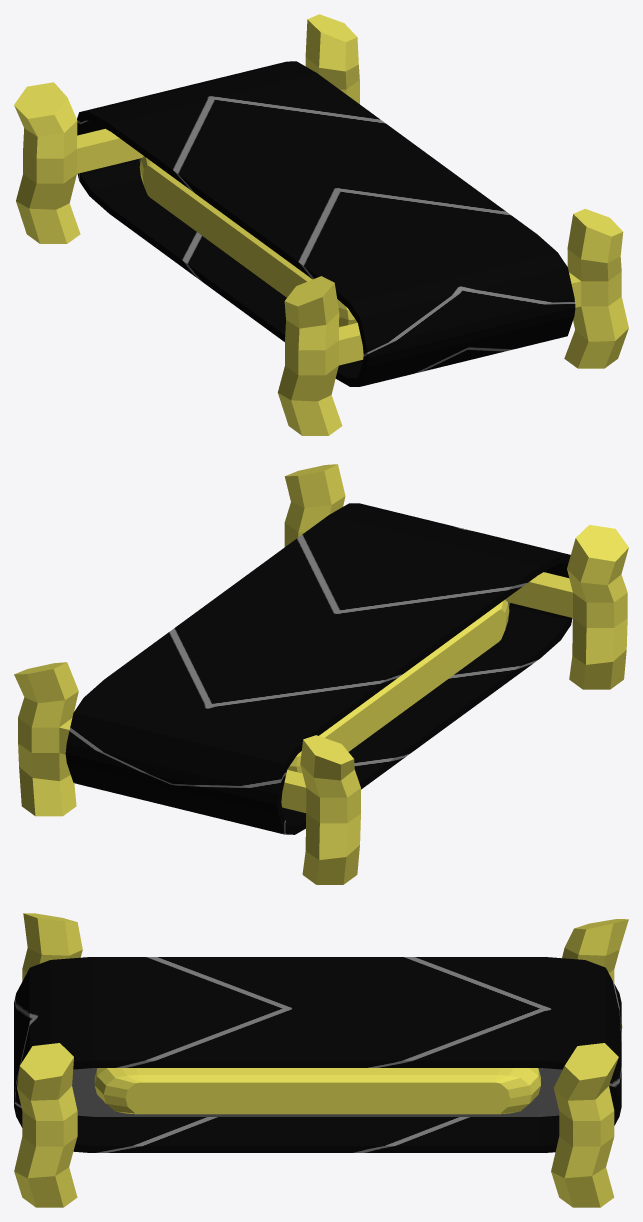
File: conveyorbelt_straight.fbx
3 views of the same model, one above another, from view 1: azimuth 30°, elevation 25°; view 2: azimuth 150°, elevation 25°; view 3: azimuth 270°, elevation 25° (orthographic). The views are drawn at different scales.
Parts seen in each view (by area): view 1: conveyor_straight; view 2: conveyor_straight; view 3: conveyor_straight.
Boxes of the visible parts, box(x1,y1,x2,y2) form: conveyor_straight: box(14, 14, 628, 435); conveyor_straight: box(14, 464, 628, 884); conveyor_straight: box(14, 913, 628, 1207).
Bounding box in the file's own units: 127 × 53.24 × 200.
3 materials, 1 textured.
